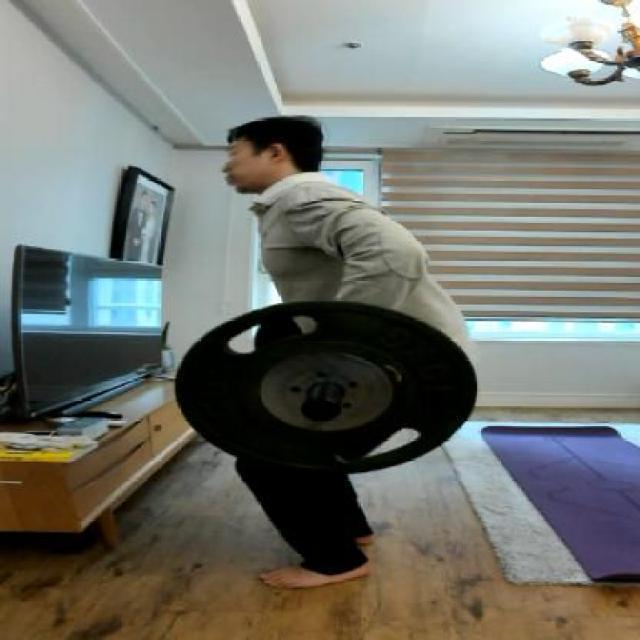barbell: (163, 297, 503, 482)
